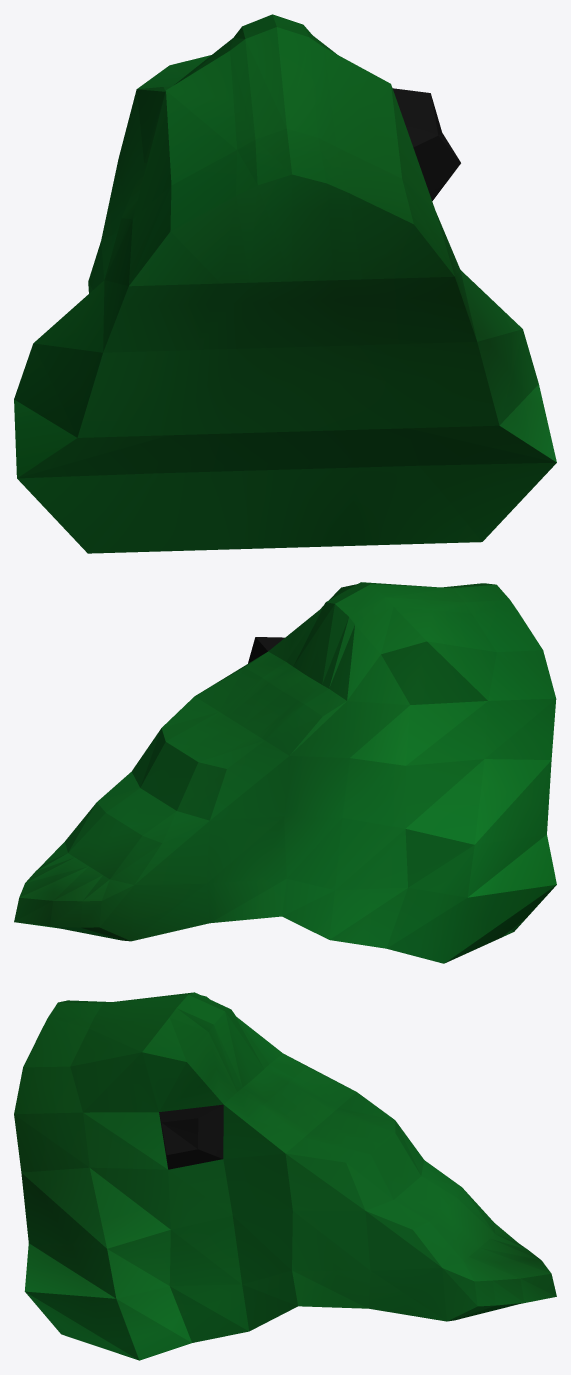
Rendered from WITCH NOSE.fbx.
3 views of the same model, one above another, from view 1: azimuth 30°, elevation 25°; view 2: azimuth 150°, elevation 25°; view 3: azimuth 270°, elevation 25° (orthographic). The views are drawn at different scales.
Parts seen in each view (by area): view 1: WITCH_NOSE; view 2: WITCH_NOSE; view 3: WITCH_NOSE.
Part boxes in pixels (bbox=[...]): WITCH_NOSE: bbox=[14, 14, 556, 553]; WITCH_NOSE: bbox=[14, 582, 556, 963]; WITCH_NOSE: bbox=[14, 992, 556, 1360].
Size of the model in its own units: 6.73 by 5.62 by 9.06.
